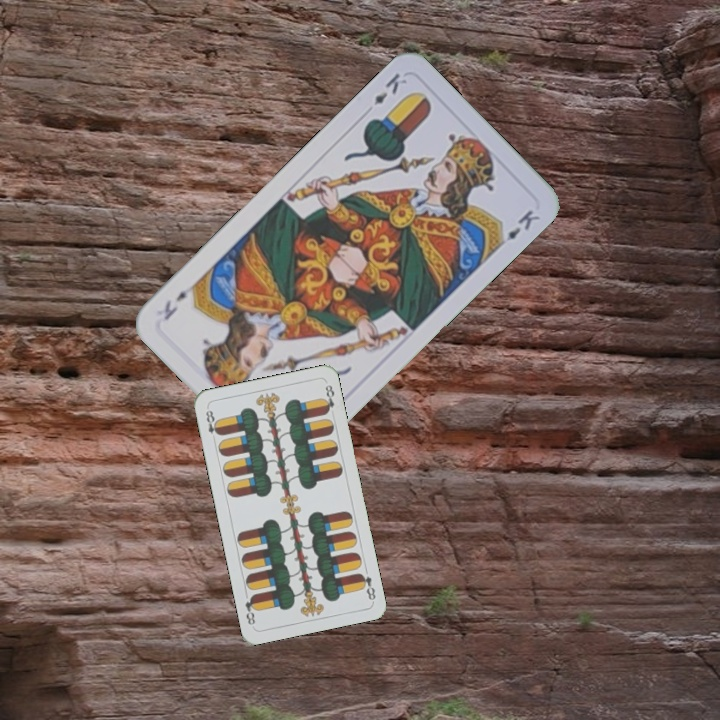E8: (202, 404, 223, 444), (355, 569, 378, 603)
EK: (369, 68, 410, 108)
